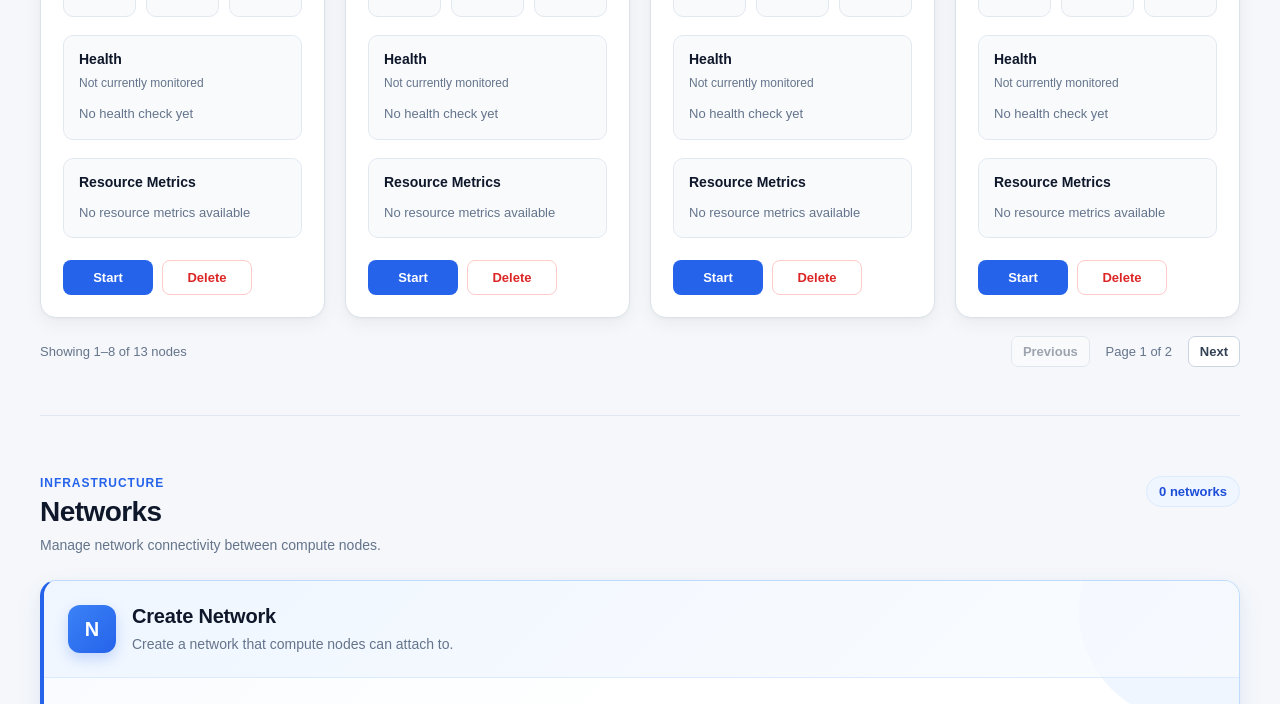
Scenario: Home page › paginates node cards and displays the next set
The width and height of the screenshot is (1280, 704).
(page scrolled)
Click the button "Next" at (1214, 351), box [1188,336,1240,367]
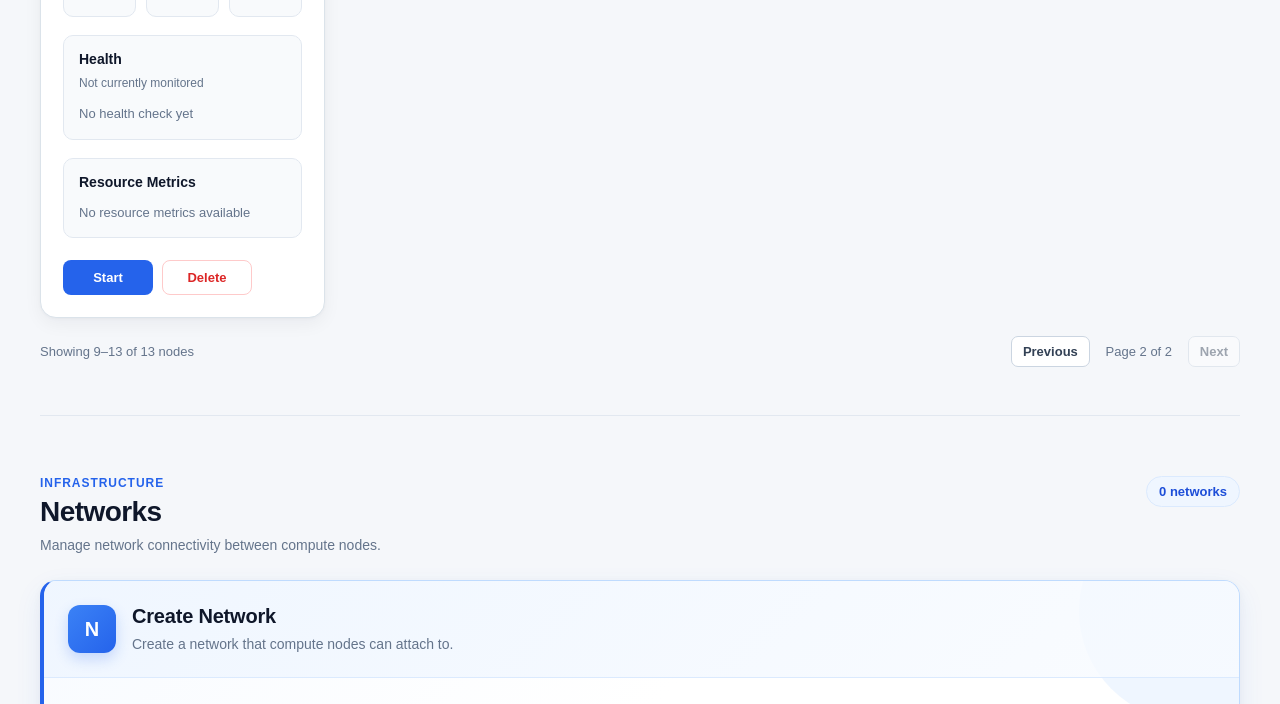
expect the text "Showing 9–13 of 13 nodes" is shown: met, box [40,344,194,359]
